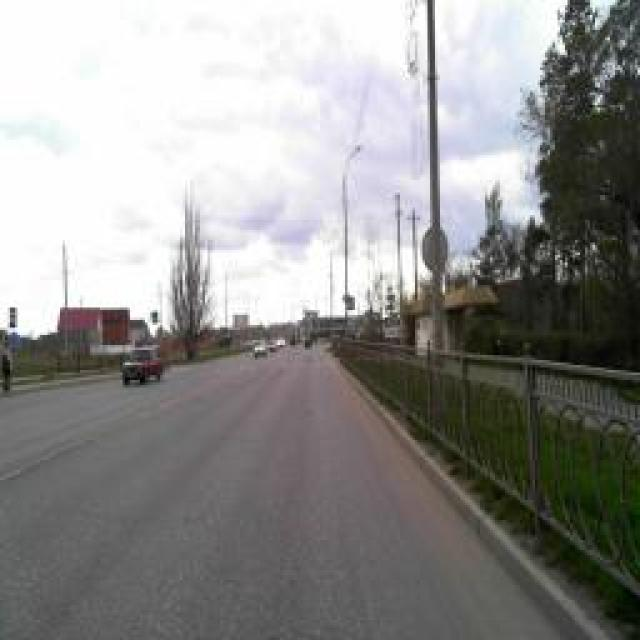sign: (341, 290, 349, 305)
